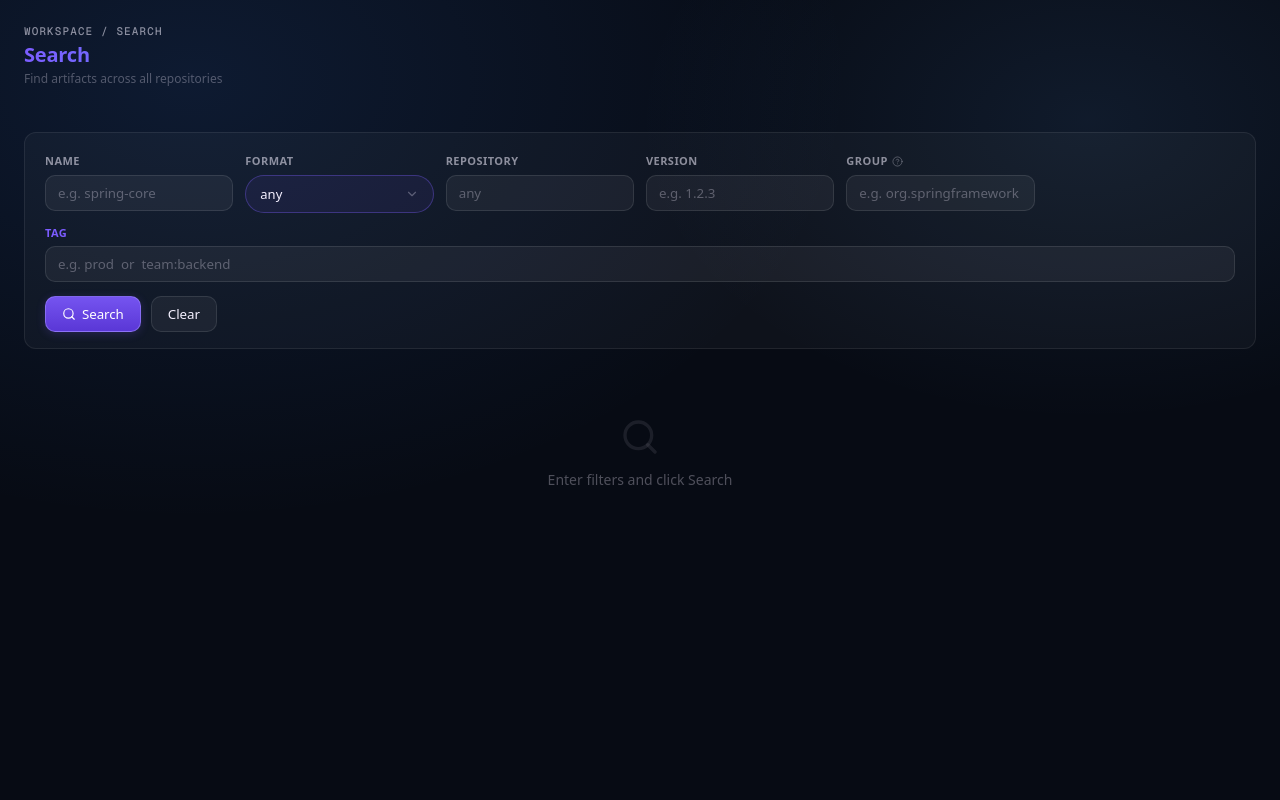
Test case: SearchPage › renders docker digest aliases inside the expanded parent tag
The width and height of the screenshot is (1280, 800).
Type "myimage" into the field with placeholder "e.g. spring-core". click: (139, 193)
box: x1=45 y1=175 x2=233 y2=211
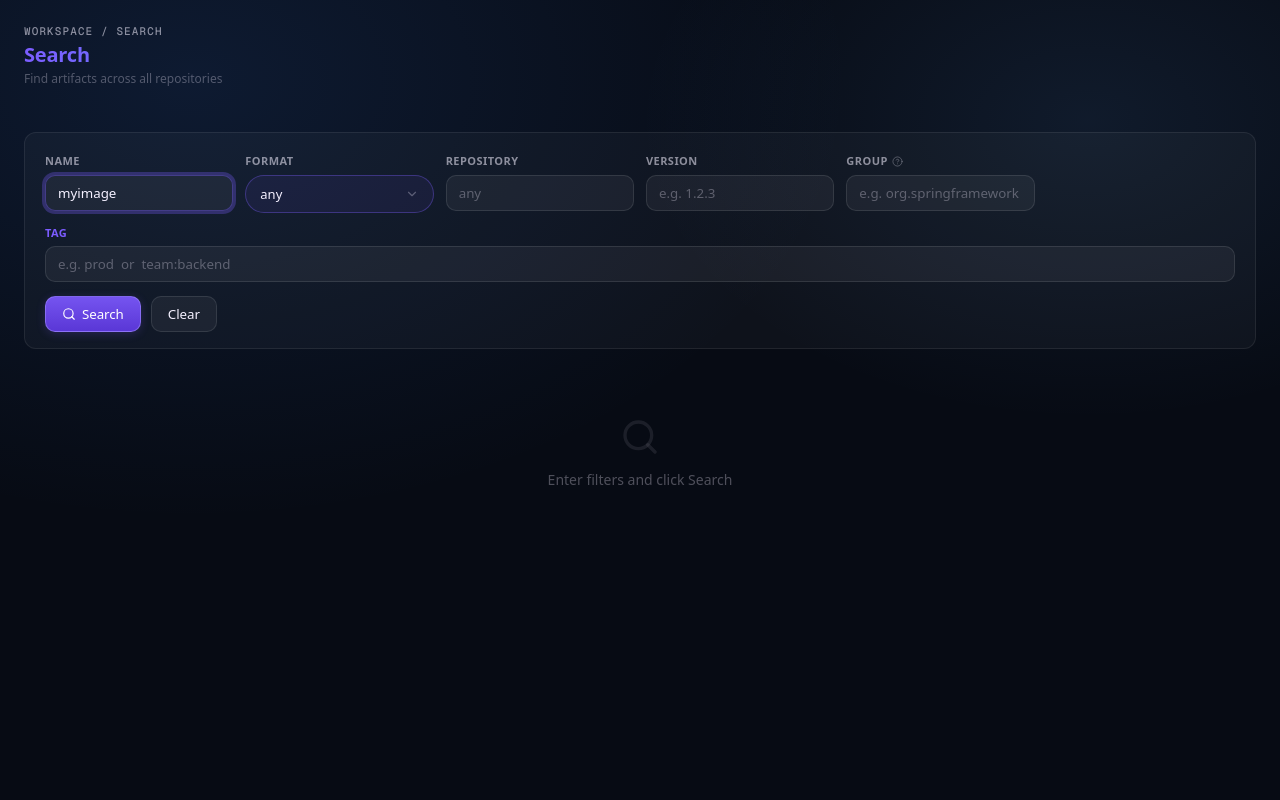
Click the button "Search". click: click(93, 314)
box: x1=45 y1=296 x2=141 y2=332
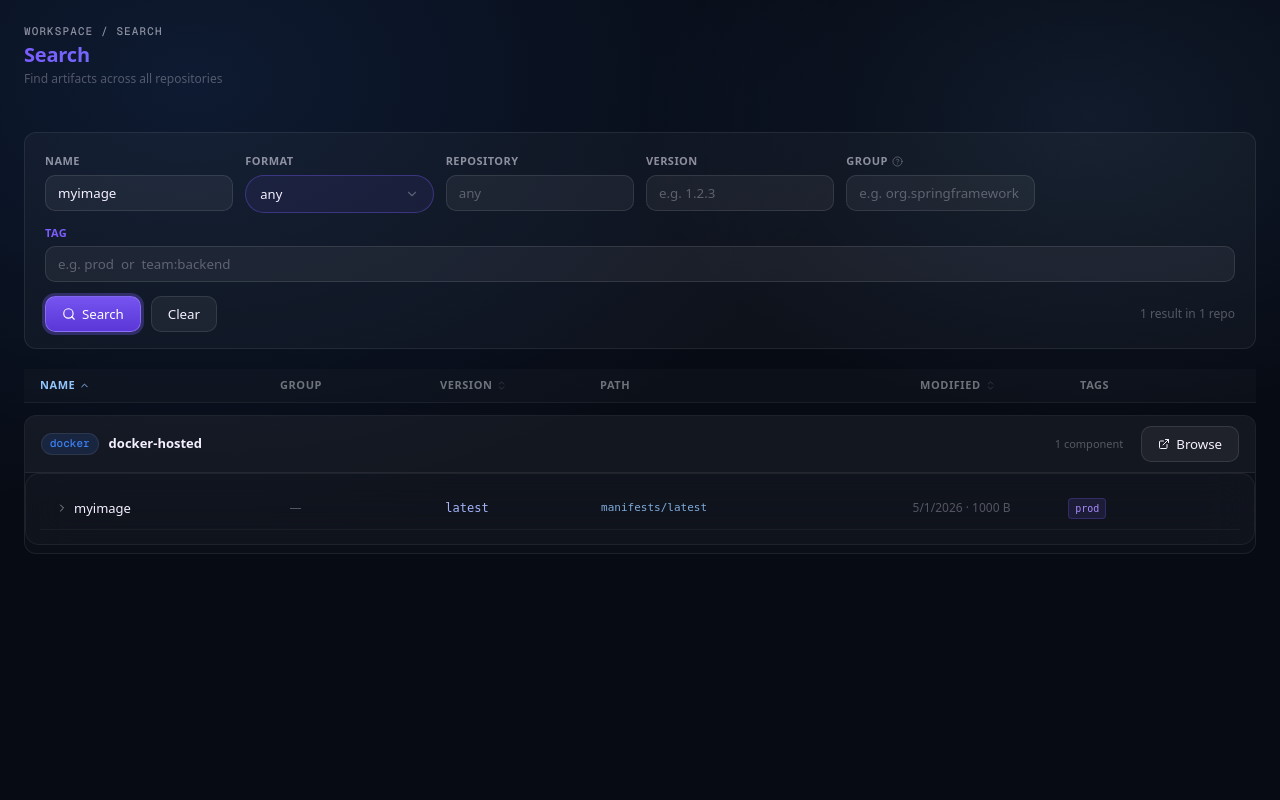
Expected: the text "myimage" is shown, x1=56 y1=499 x2=131 y2=517
Expected: the text "latest" is shown, x1=445 y1=501 x2=489 y2=515
// Expand and look for digest aliases section
Click the element named "Expand assets". click: click(62, 508)
box: x1=56 y1=502 x2=68 y2=514
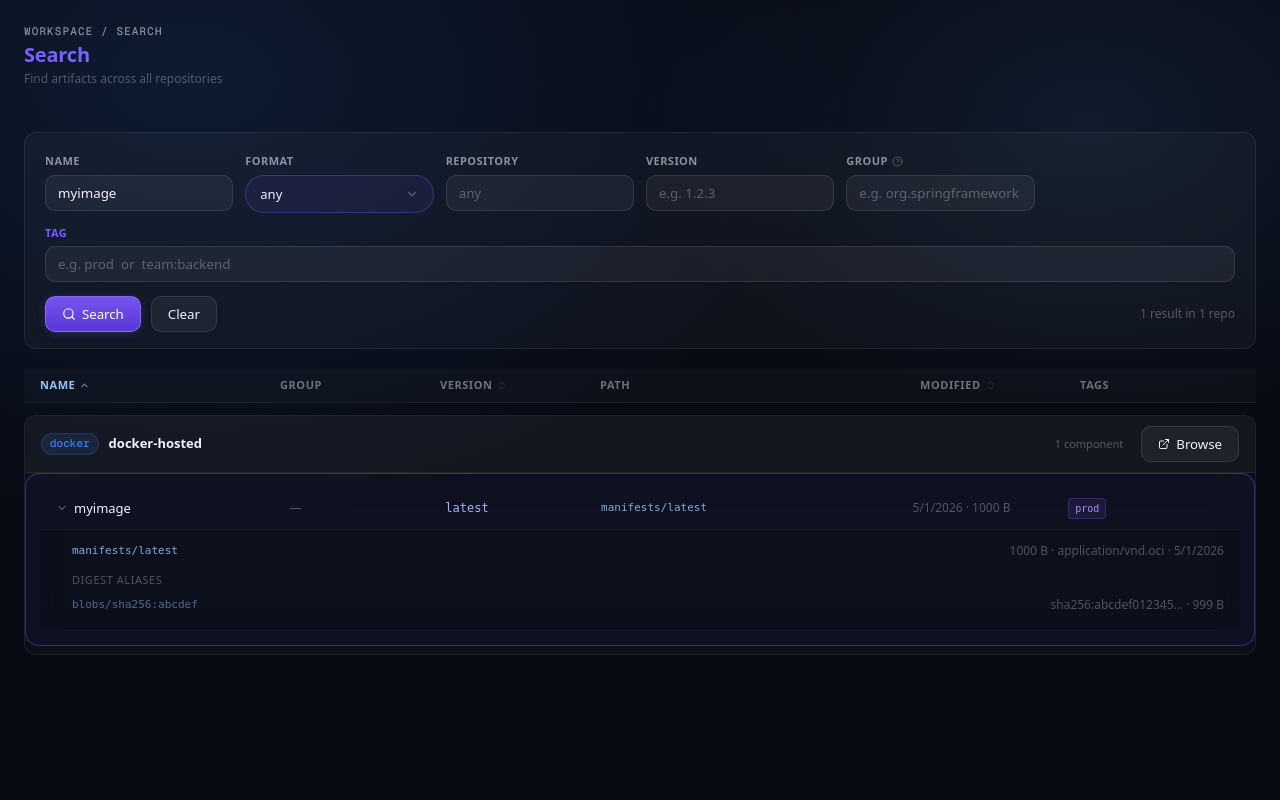
Expected: the text "Digest aliases" is shown, x1=72 y1=572 x2=162 y2=587
Expected: the text "blobs/sha256:abcdef" is shown, x1=72 y1=597 x2=198 y2=614
